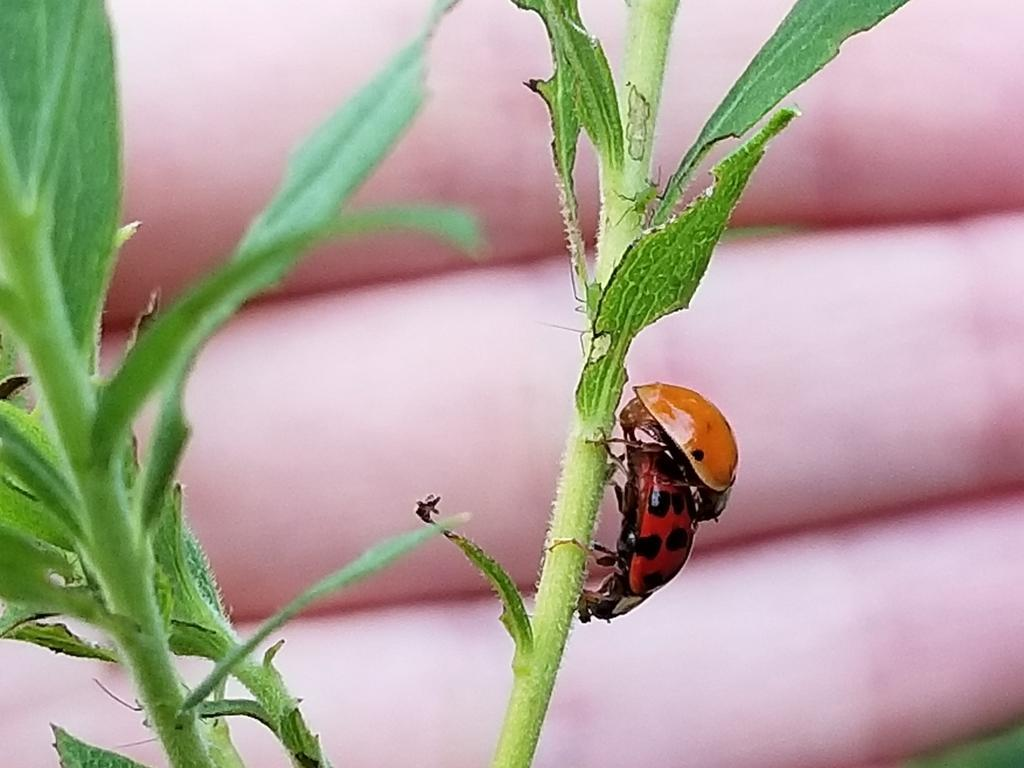ladybug: (547, 429, 703, 627), (583, 381, 745, 535)
